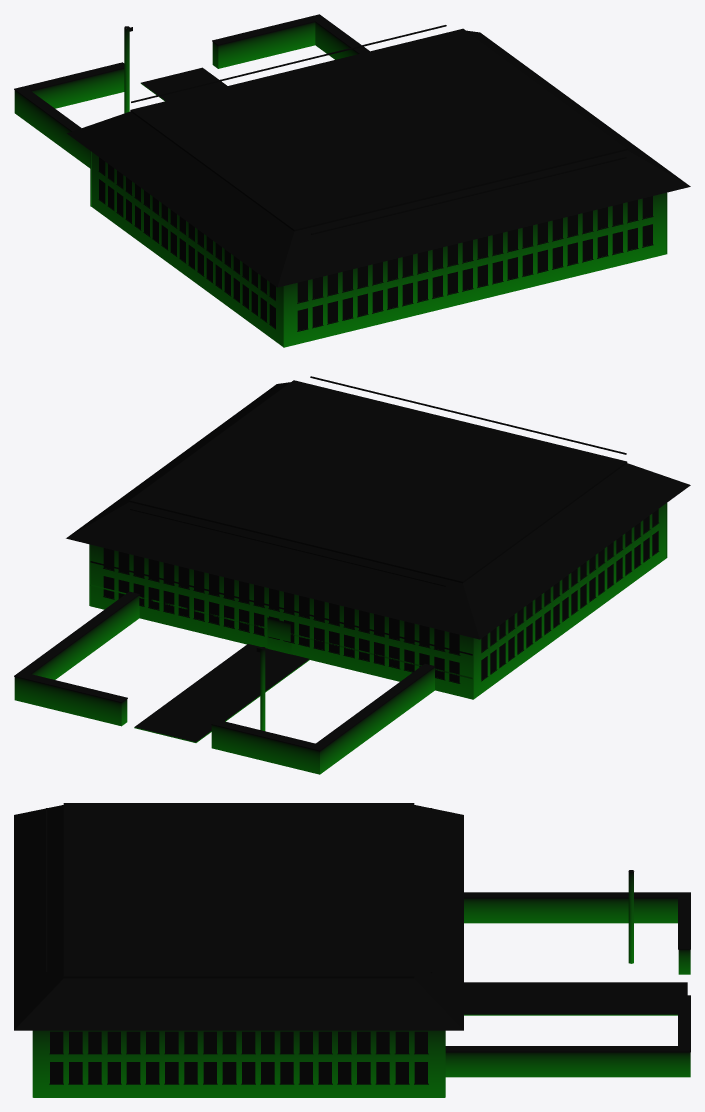
The model's file is s_govresidence.glb.
3 renders of one model, top to bottom at view 1: azimuth 30°, elevation 25°; view 2: azimuth 150°, elevation 25°; view 3: azimuth 270°, elevation 25°, orthographic. The views are drawn at different scales.
Visible parts, largest first — view 1: lod0; view 2: lod0; view 3: lod0.
Boxes of the visible parts, x1,y1,x2,y2 form: lod0: [14, 14, 690, 347]; lod0: [14, 376, 690, 774]; lod0: [14, 803, 690, 1097].
Size of what is drawn, in the model's own units: 23.76 by 5.56 by 31.52.
